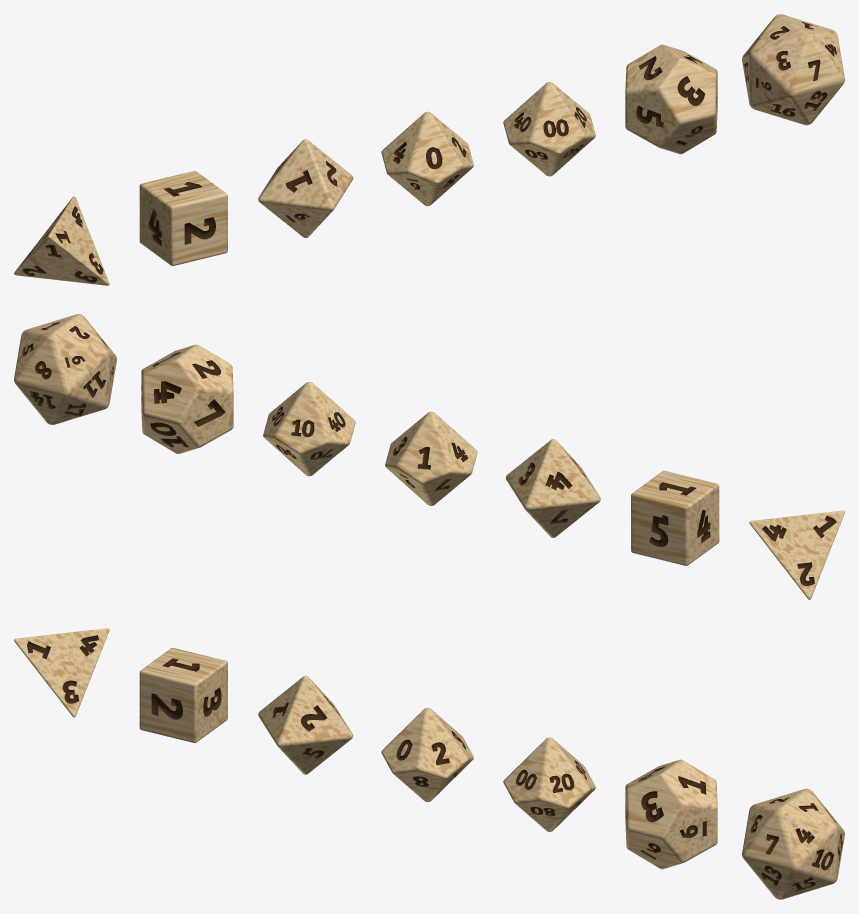
Rendered from maple.glb.
3 renders of one model, top to bottom at view 1: azimuth 30°, elevation 25°; view 2: azimuth 150°, elevation 25°; view 3: azimuth 330°, elevation 25°, orthographic.
Visible parts, largest first — view 1: d20, d12, d6, d100, d10, d8, d4; view 2: d20, d12, d6, d100, d10, d8, d4; view 3: d20, d12, d6, d8, d10, d100, d4.
Part boxes in pixels (x1,y1,x2,y2): d20: [742, 14, 844, 125]; d12: [625, 44, 717, 154]; d6: [139, 171, 227, 266]; d100: [503, 82, 595, 176]; d10: [381, 111, 473, 206]; d8: [258, 139, 353, 238]; d4: [14, 196, 109, 285]; d20: [14, 314, 116, 424]; d12: [141, 344, 233, 453]; d6: [631, 470, 719, 565]; d100: [263, 382, 355, 476]; d10: [385, 411, 477, 505]; d8: [505, 439, 600, 537]; d4: [749, 510, 844, 599]; d20: [742, 788, 844, 899]; d12: [625, 759, 717, 869]; d6: [139, 647, 227, 742]; d8: [258, 675, 353, 774]; d10: [381, 707, 473, 802]; d100: [503, 737, 595, 831]; d4: [14, 628, 109, 717].
Bounding box in the file's own units: 21.14 × 2.47 × 2.47.
Materials: 14 (7 with a texture image).
